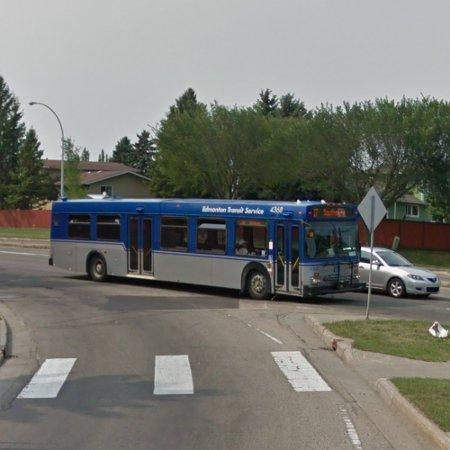buses: (50, 199, 360, 299)
